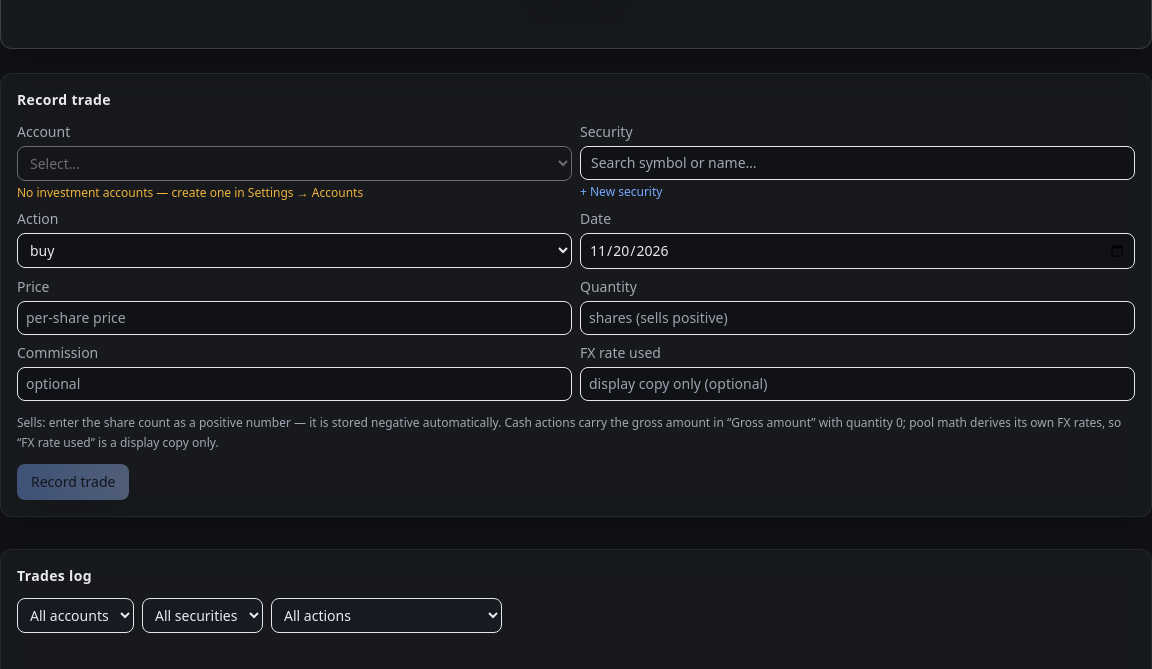
Test: SecurityForm — the add-time quote check › cancel dismisses the warning without adding (the warnings' cancel path)
(page scrolled)
Click the button with test id "new-security-toggle" at (621, 192), box x1=580 y1=184 x2=662 y2=200
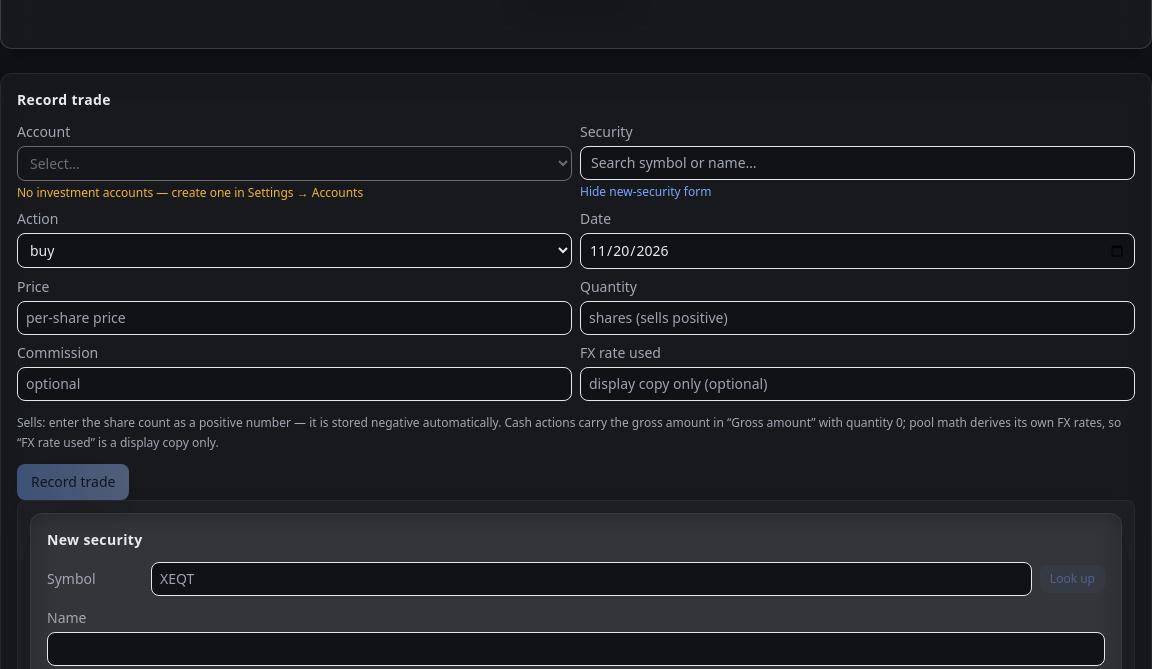
Type "APOTEX" into the field with placeholder "XEQT" at (591, 579), box x1=151 y1=562 x2=1032 y2=596
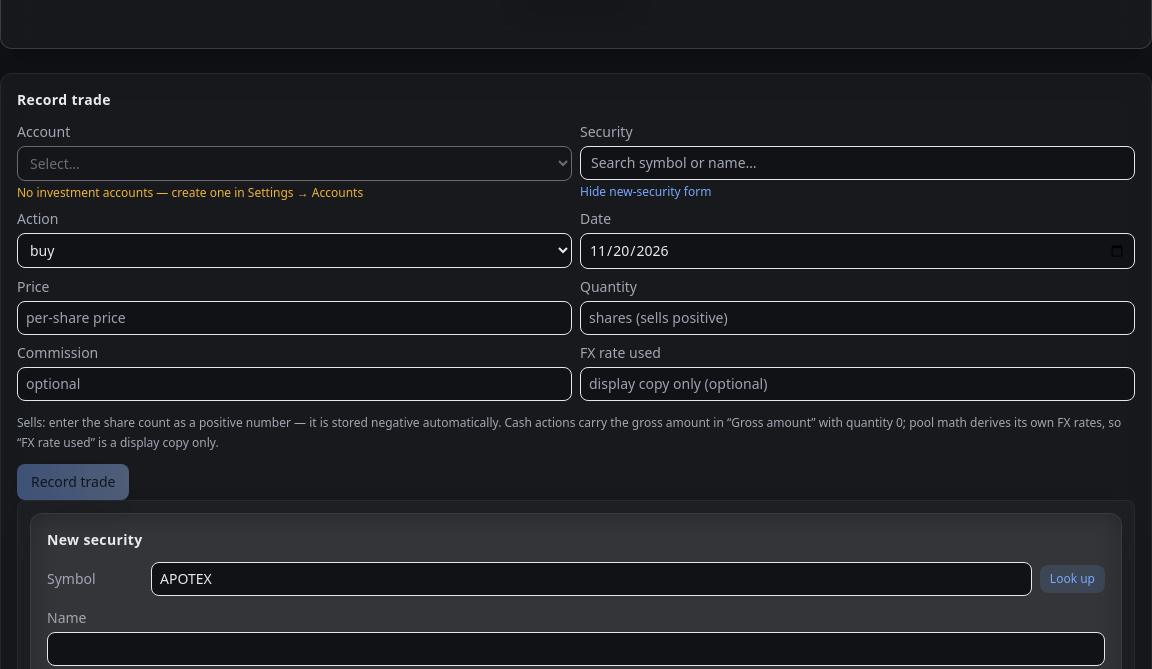
Type "Example Inc." into the field labelled "Name" at (576, 649), box x1=47 y1=632 x2=1105 y2=666
(page scrolled)
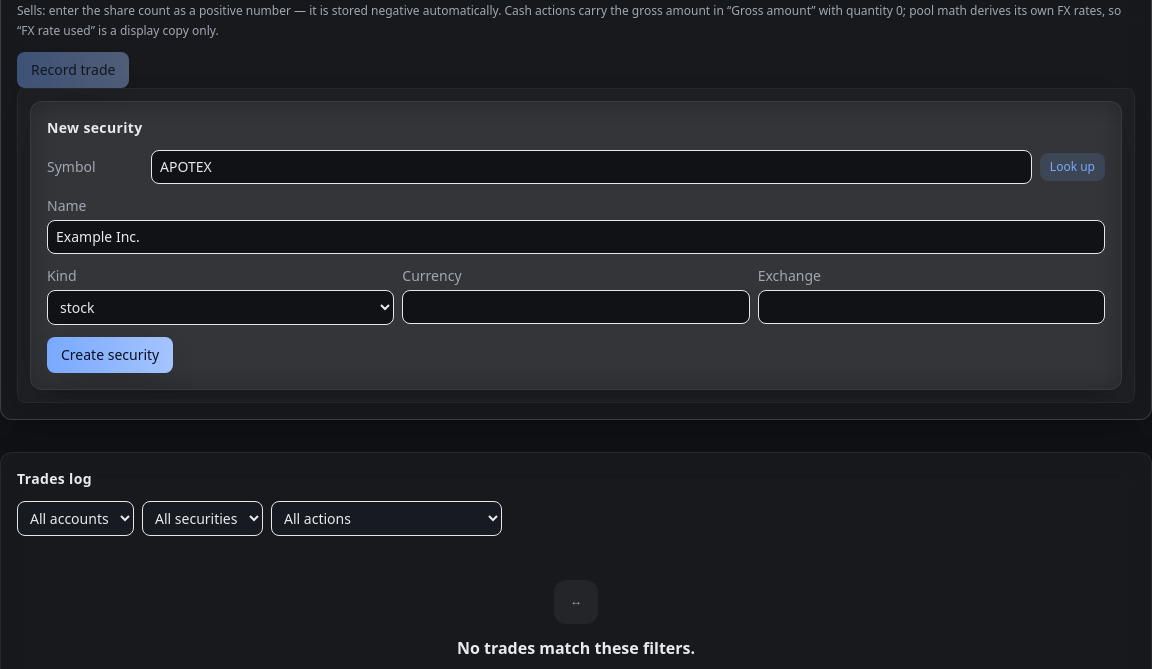
Click the button "Create security" at (110, 355), box x1=47 y1=337 x2=173 y2=373
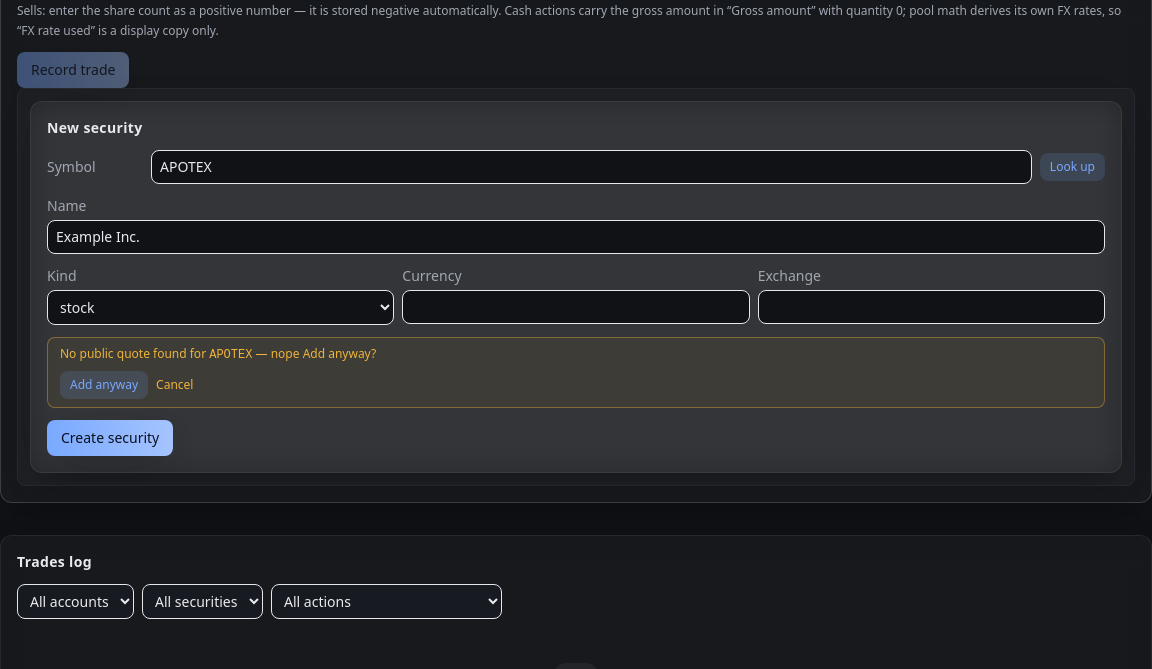
Click the button with test id "dismiss-quote-warning" at (175, 385), box x1=156 y1=377 x2=194 y2=393
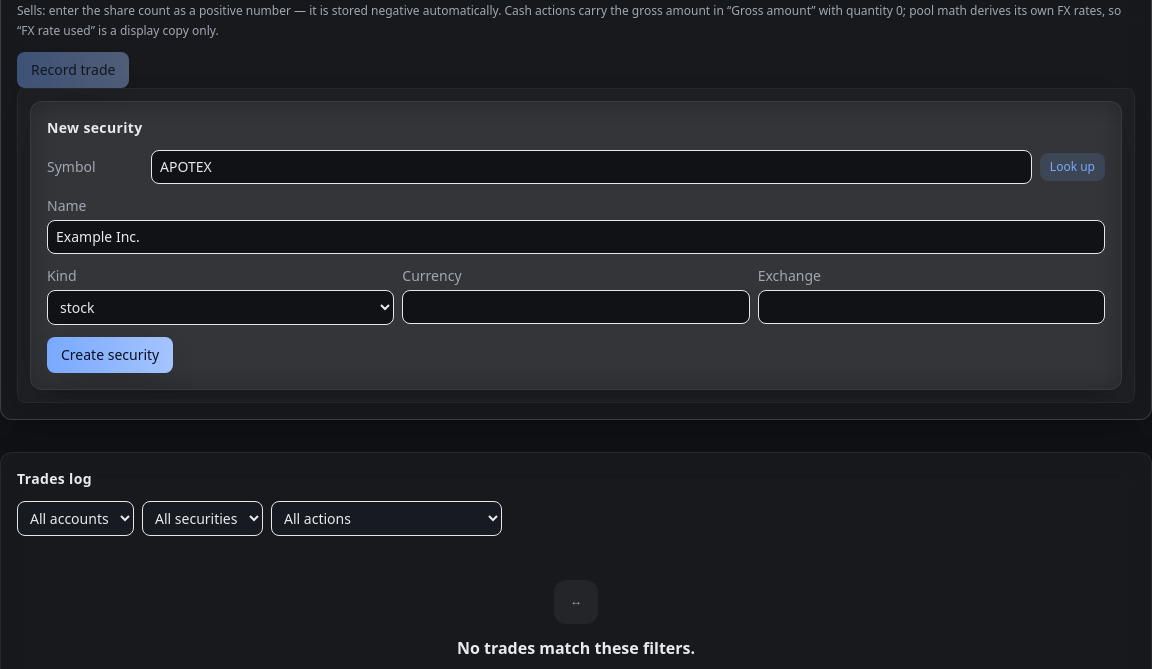
Check: the message with test id "quote-warning" is gone
